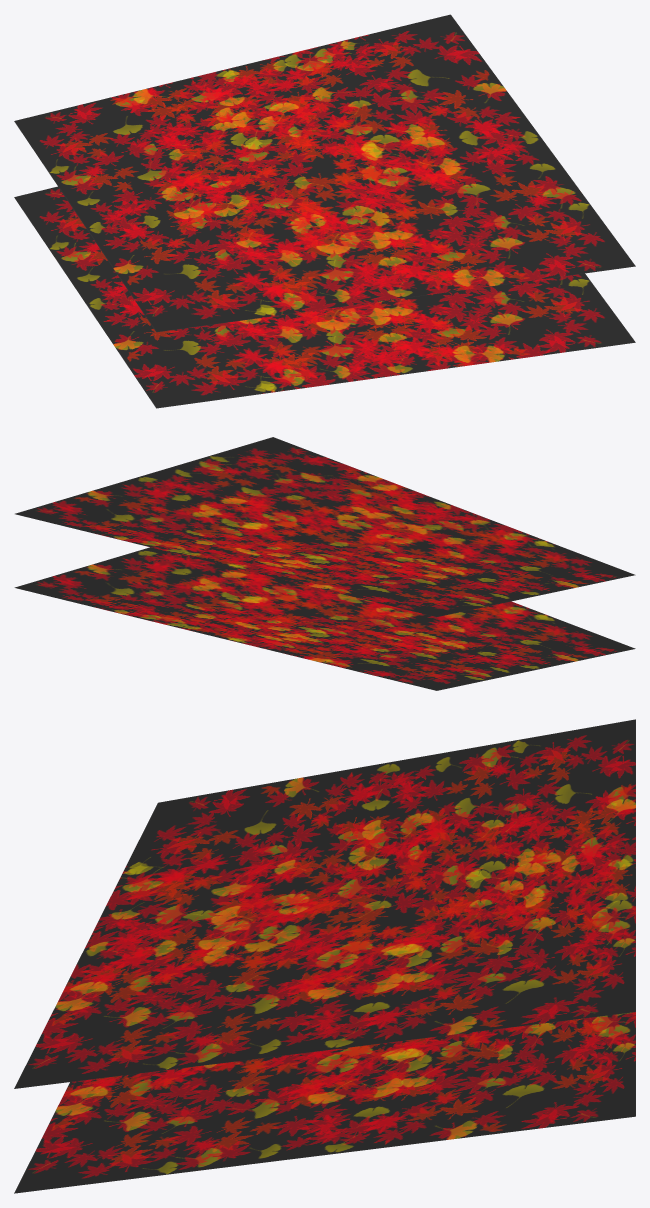
File: OBJ_CourseAki_CurveFloor_3_21.fbx
The picture shows the model from 3 angles, top to bottom: view 1: azimuth 30°, elevation 25°; view 2: azimuth 150°, elevation 25°; view 3: azimuth 270°, elevation 25°; orthographic projection. The views are drawn at different scales.
Visible parts, largest first — view 1: polySurface252, polySurface253; view 2: polySurface252, polySurface253; view 3: polySurface252, polySurface253.
Boxes of the visible parts, left/top/right/bottom form: polySurface252: left=14, top=14, right=635, bottom=332; polySurface253: left=14, top=186, right=635, bottom=408; polySurface252: left=15, top=437, right=635, bottom=616; polySurface253: left=14, top=547, right=635, bottom=690; polySurface252: left=14, top=719, right=635, bottom=1088; polySurface253: left=14, top=1012, right=635, bottom=1193.
Size of the model in its own units: 6.44 by 2 by 5.39.
1 material, 1 textured.
